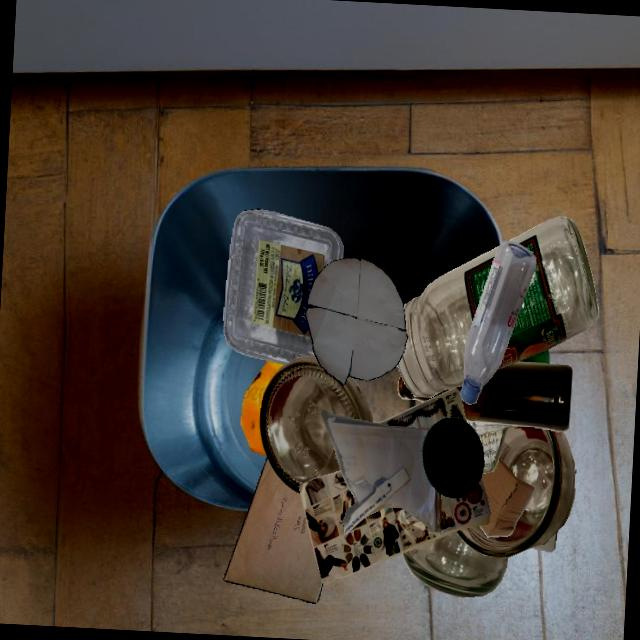biowaste: (241, 361, 285, 456)
cardboard: (479, 457, 535, 537)
glass: (456, 426, 575, 558), (260, 355, 373, 494), (497, 216, 598, 370), (397, 246, 499, 398), (402, 531, 508, 597), (478, 361, 572, 432), (518, 349, 550, 364)
paper: (299, 470, 490, 584), (321, 409, 441, 536), (224, 457, 323, 603), (305, 256, 408, 386), (466, 419, 519, 473), (531, 531, 557, 552)
plastic: (223, 209, 343, 365), (460, 241, 536, 405), (422, 418, 484, 498)
